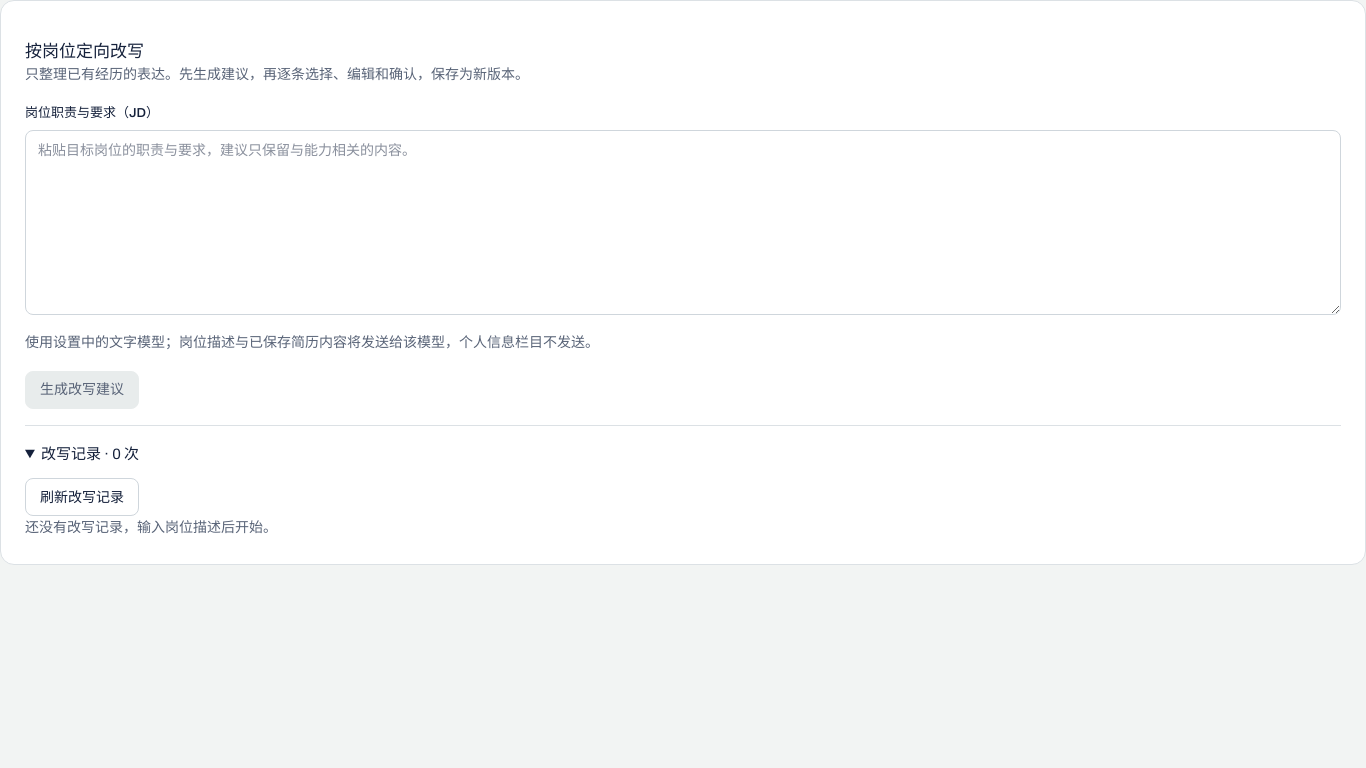
Test: 生成断流查同一请求的持久化结果，历史旧版本只读
The width and height of the screenshot is (1366, 768).
Step 1. Type "接口开发" into the text box labelled "岗位职责与要求（JD）" → (683, 223), box [25,130,1341,315]
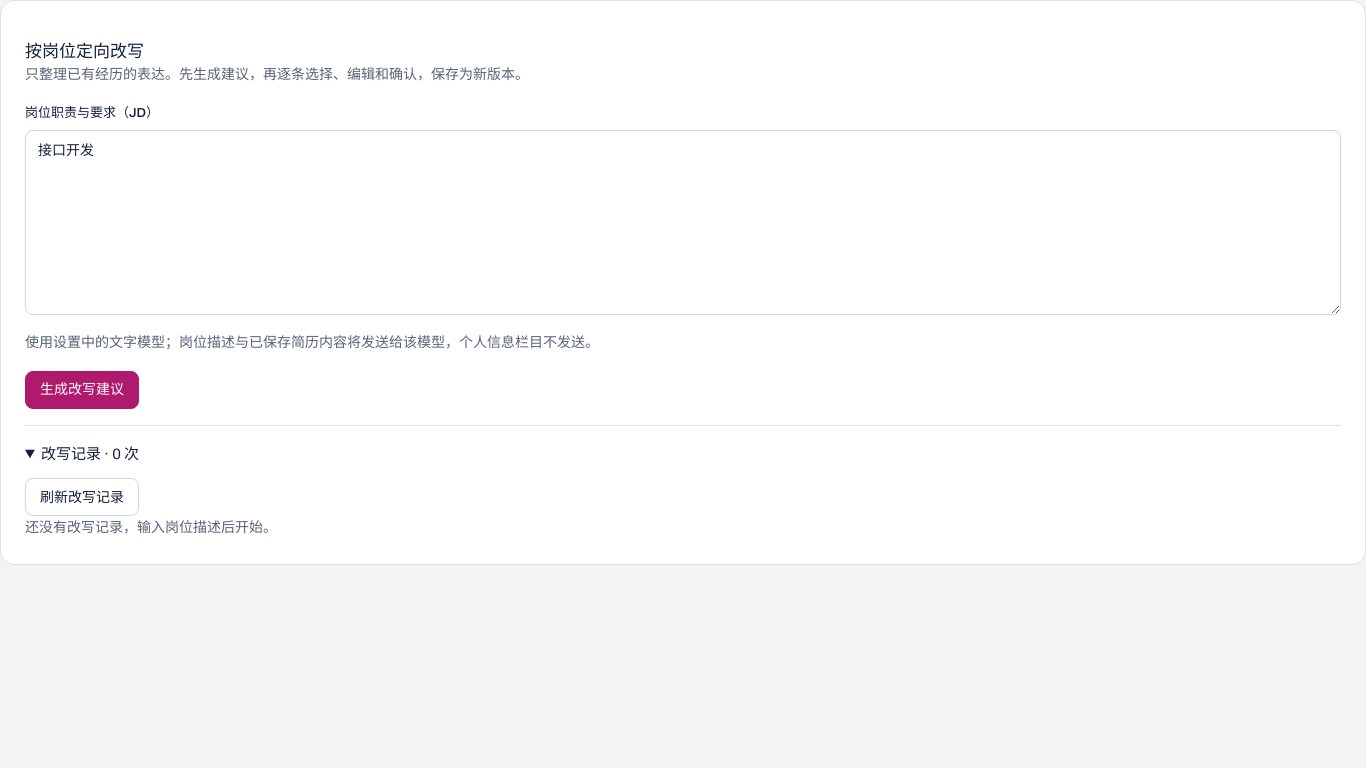
Step 2. Click the button "生成改写建议" → (82, 390), box [25,371,139,409]
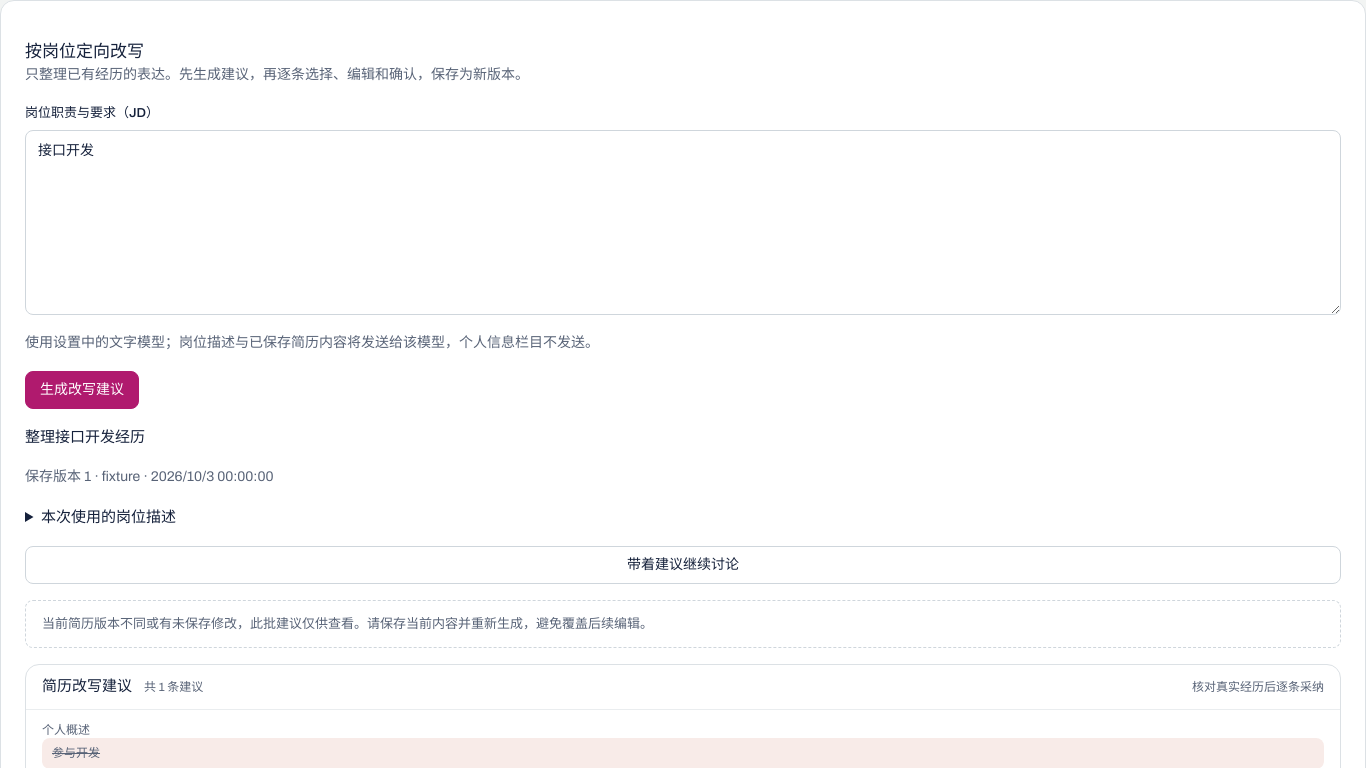
Expected: the text "整理接口开发经历" is shown, [25,429,145,445]
Expected: the text "此批建议仅供查看" is shown, [42,617,653,631]
